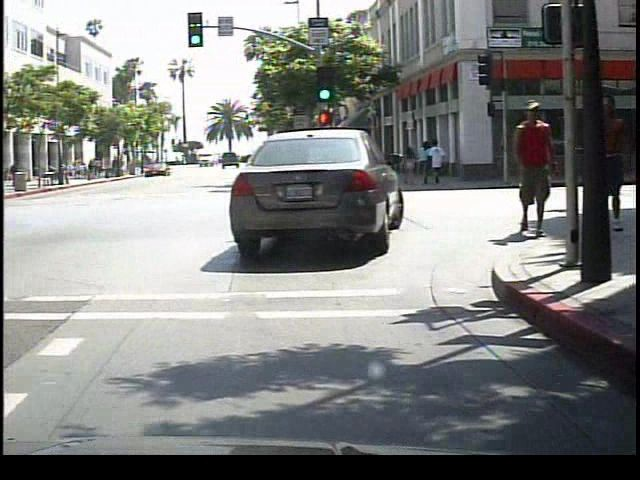person: (502, 94, 560, 245), (567, 96, 615, 237), (8, 157, 27, 189)
